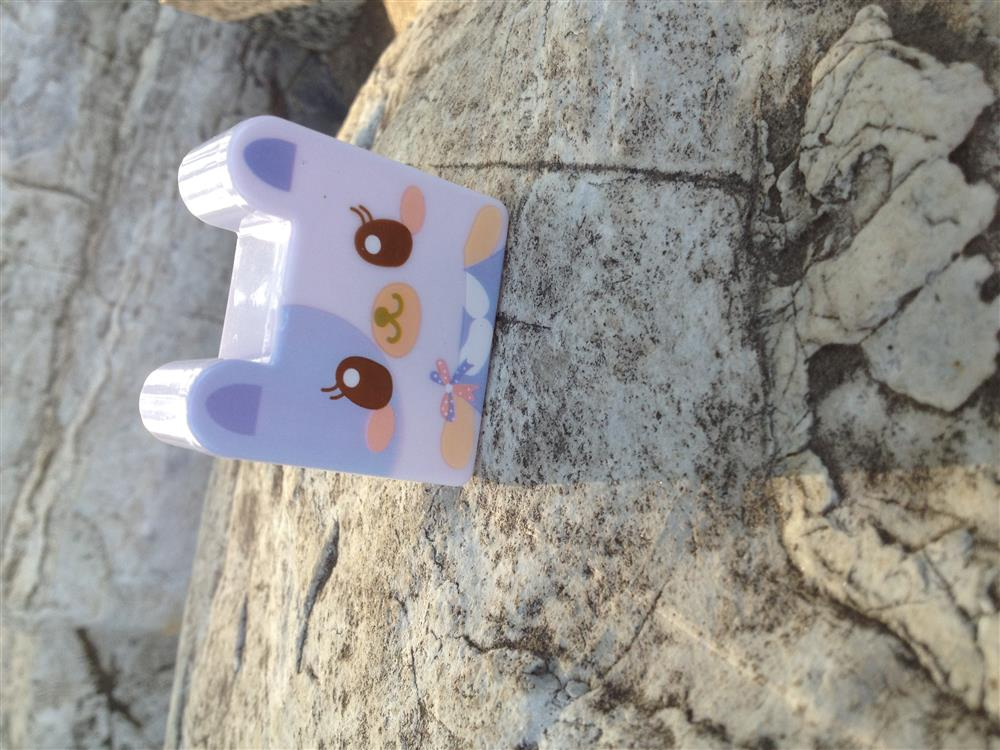dog_sharpener: (140, 117, 513, 489)
